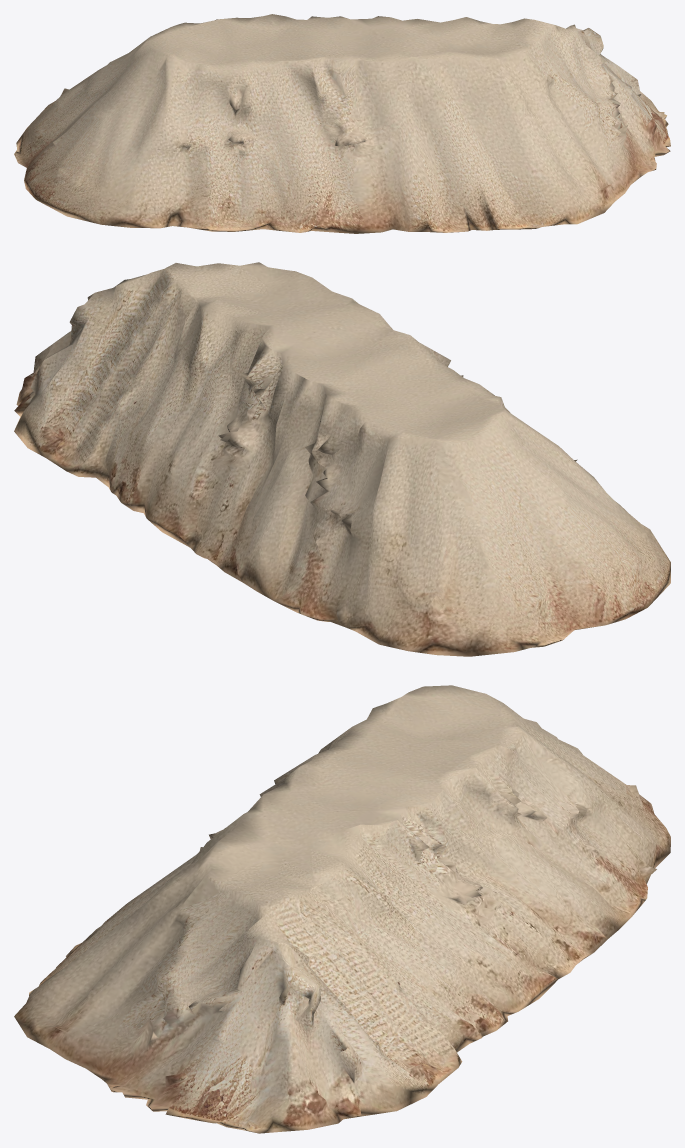
File: teluk-sand-heap.glb
3 renders of one model, top to bottom at view 1: azimuth 30°, elevation 25°; view 2: azimuth 150°, elevation 25°; view 3: azimuth 270°, elevation 25°, orthographic. The views are drawn at different scales.
Visible parts, largest first — view 1: teluk-sand-heap; view 2: teluk-sand-heap; view 3: teluk-sand-heap.
Part boxes in pixels (bbox=[...]): teluk-sand-heap: bbox=[14, 14, 670, 233]; teluk-sand-heap: bbox=[14, 262, 670, 656]; teluk-sand-heap: bbox=[14, 685, 670, 1133].
Bounding box in the file's own units: 26 × 5.44 × 19.72.
Materials: 1 (1 with a texture image).
